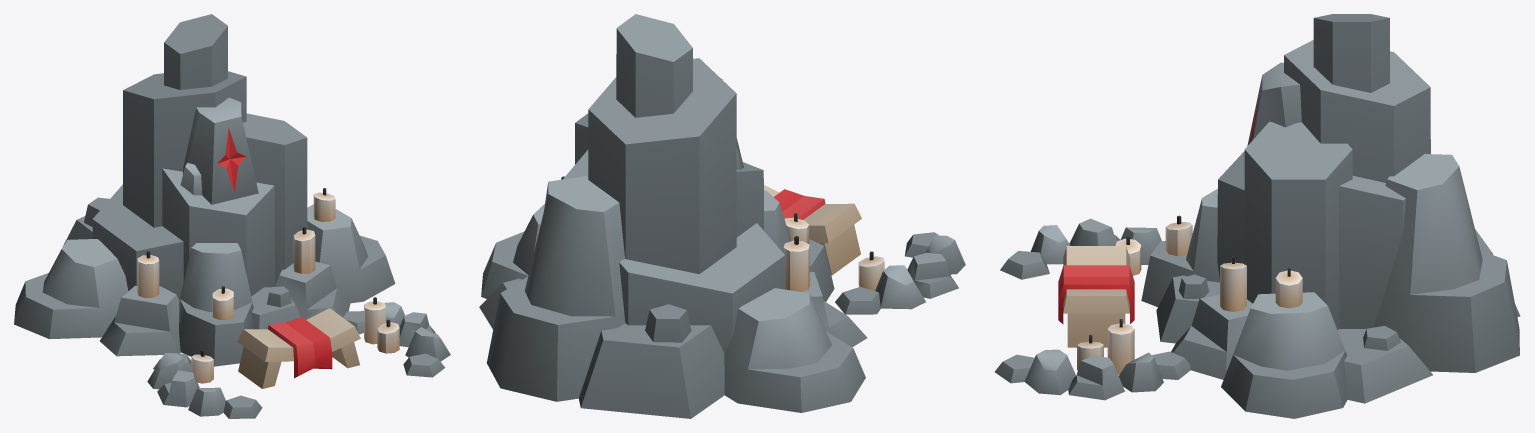
File: shrine.glb
The picture shows the model from 3 angles, left to right: view 1: azimuth 30°, elevation 25°; view 2: azimuth 150°, elevation 25°; view 3: azimuth 270°, elevation 25°; orthographic projection. The views are drawn at different scales.
Visible parts, largest first — view 1: shrine; view 2: shrine; view 3: shrine.
Part boxes in pixels (<box>): shrine: <box>14,14,450,418</box>; shrine: <box>479,14,965,418</box>; shrine: <box>994,14,1520,418</box>.
Bounding box in the file's own units: 0.5772 × 0.4267 × 0.6486.
Materials: 1 (1 with a texture image).
